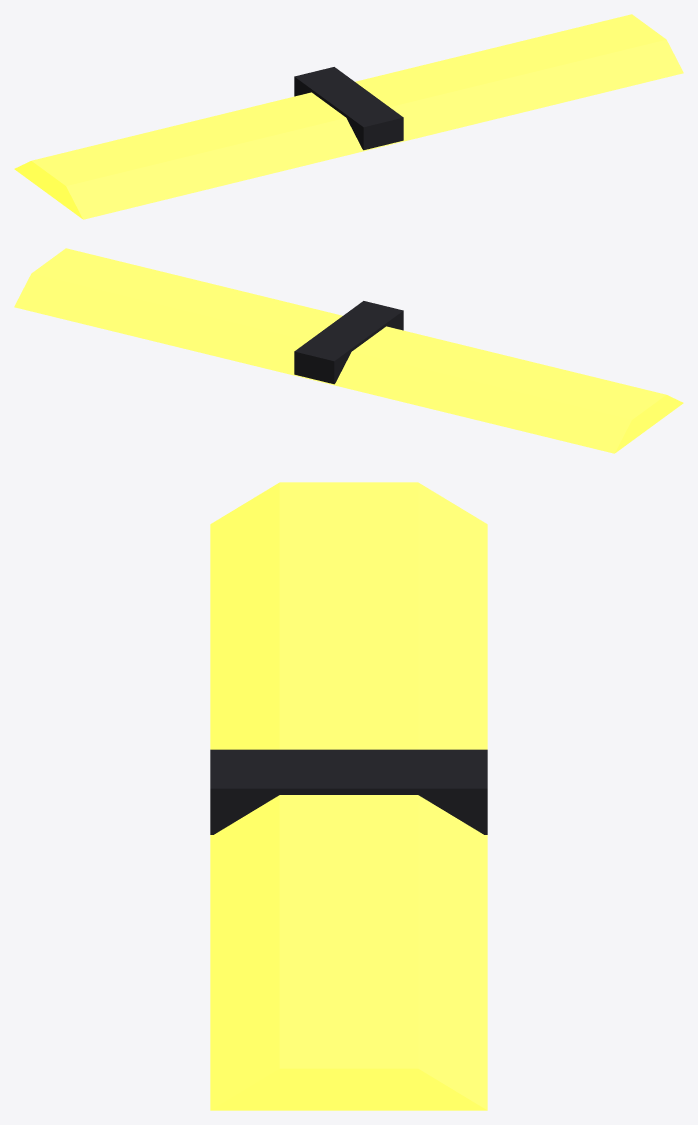
The model's file is speed_bump.glb.
3 renders of one model, top to bottom at view 1: azimuth 30°, elevation 25°; view 2: azimuth 150°, elevation 25°; view 3: azimuth 270°, elevation 25°, orthographic. The views are drawn at different scales.
Visible parts, largest first — view 1: speed_bump; view 2: speed_bump; view 3: speed_bump.
Boxes of the visible parts, x1,y1,x2,y2 form: speed_bump: (14, 14, 683, 219); speed_bump: (14, 248, 683, 453); speed_bump: (210, 482, 487, 1110).
Size of the model in its own units: 3 by 0.115 by 0.6.
